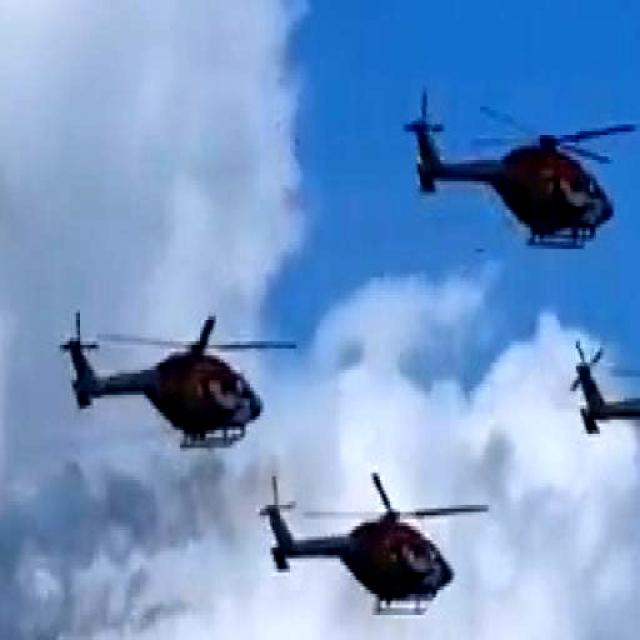drone: (404, 86, 640, 265), (268, 466, 489, 625), (66, 302, 296, 452), (571, 321, 640, 498)
